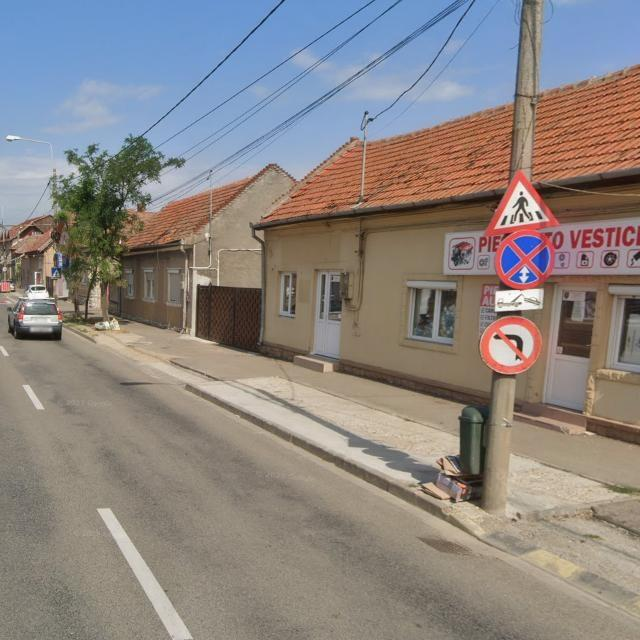forb_waiting: (494, 231, 556, 290)
warn_crosswalk: (482, 167, 562, 234)
